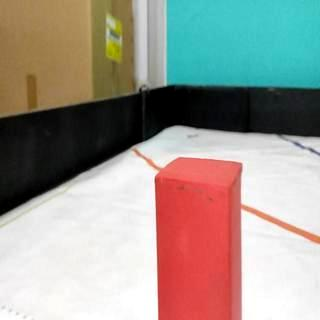redbox: (154, 156, 243, 320)
